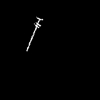treble_crochet: (27, 18, 42, 49)
